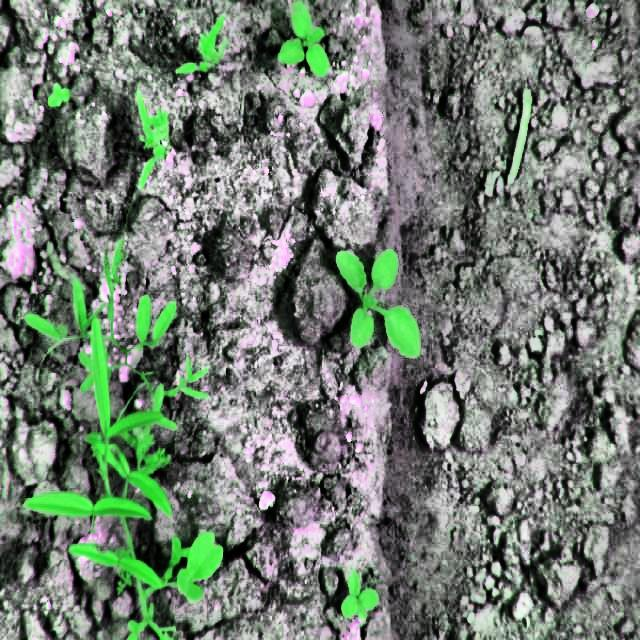Weeds: (16, 282, 223, 639), (337, 240, 425, 360), (279, 0, 332, 77), (339, 570, 381, 630)
undefined: (170, 7, 230, 75), (132, 92, 174, 186), (46, 74, 70, 109)
